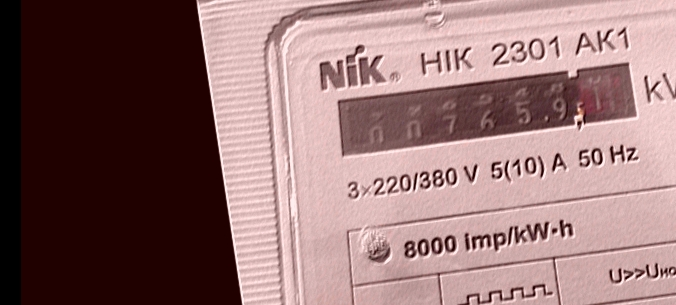0: (367, 120, 389, 149), (405, 115, 427, 143)
1: (591, 81, 609, 115)
5: (512, 97, 538, 127)
6: (477, 106, 499, 132)
7: (440, 111, 464, 139)
9: (550, 94, 572, 123)
screen: (325, 42, 652, 179)
